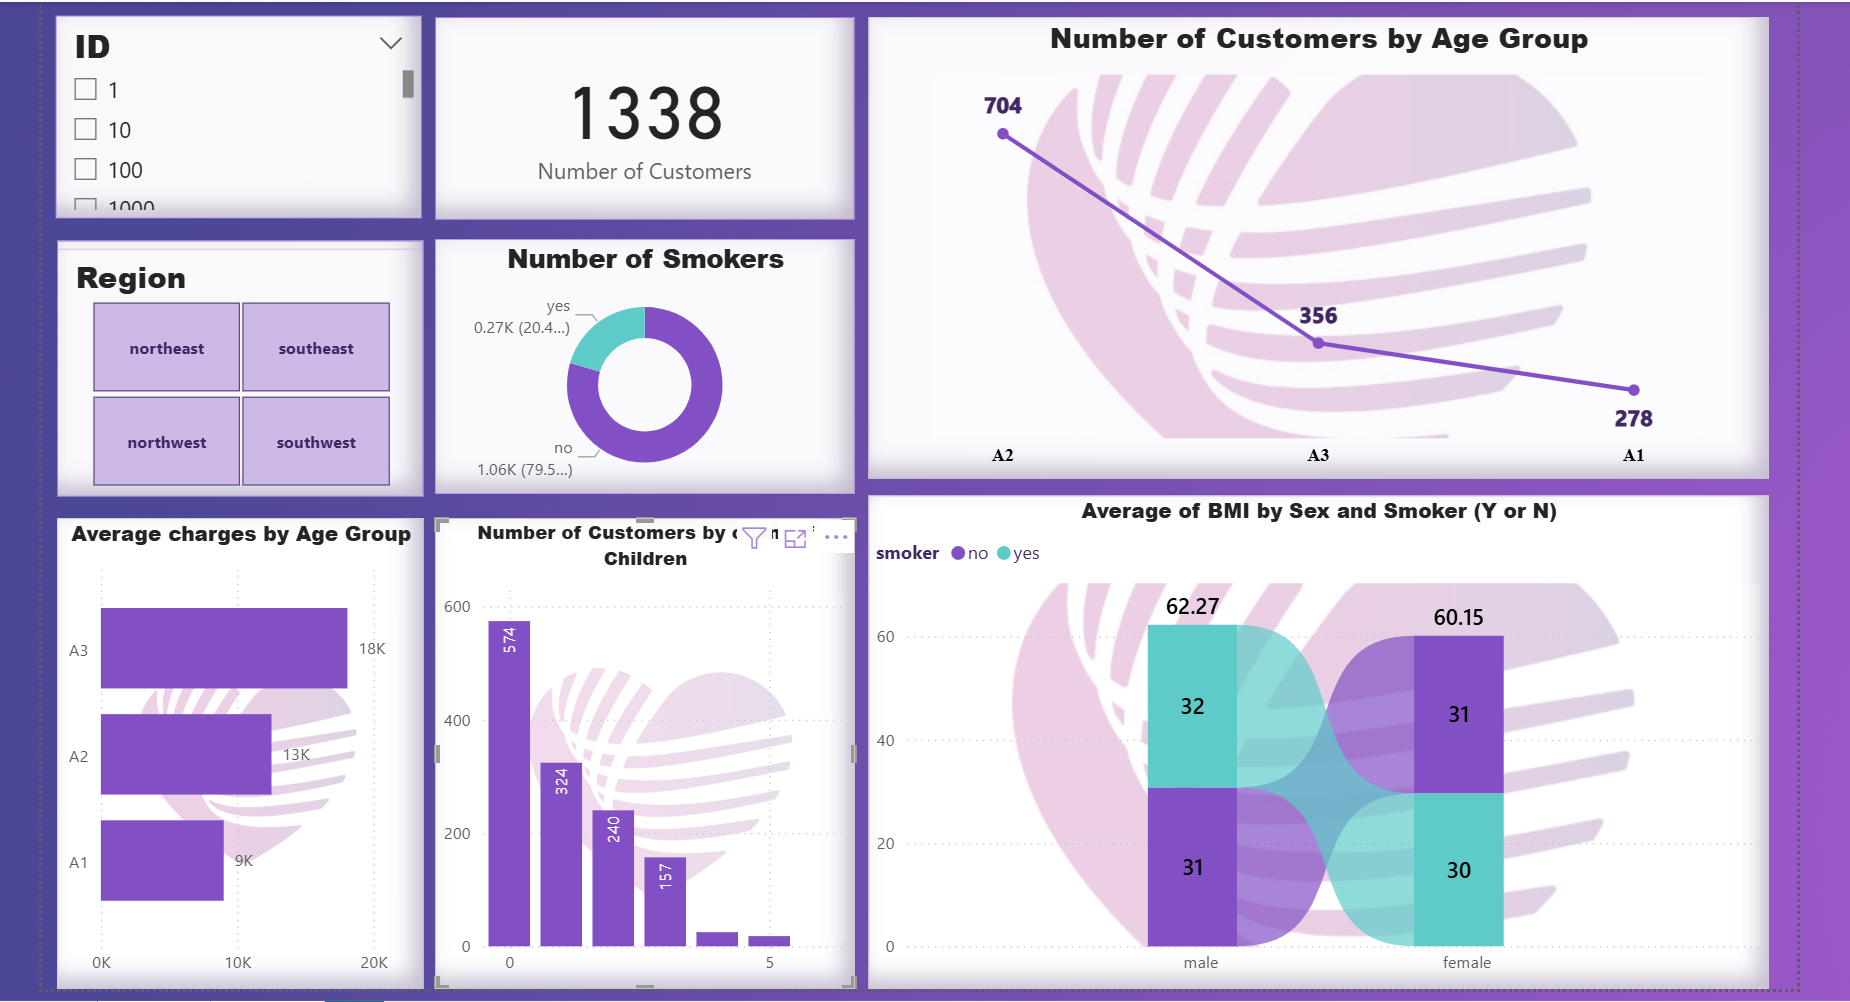

What the dashboard file says about the page in this screenshot:
{"tool":"powerbi","page":{"name":"Page 1","canvas":[1280,720],"ordinal":0},"visuals":[{"type":"slicer","fields":{"Values":["insurance.ID"]},"box":[10.1,10.1,267.1,147.9],"z":0},{"type":"card","fields":{"Values":["Count(insurance.ID)"]},"box":[287.2,10.5,305.9,147.7],"z":1000},{"type":"slicer","fields":{"Values":["insurance.region"]},"box":[10.5,173.5,267.3,186.4],"z":2000},{"type":"barChart","title":"Average charges by Age Group","fields":{"Category":["insurance.Age Group"],"Y":["Avg(insurance.charges)"]},"box":[10.5,376.3,267.3,343.4],"z":3000},{"type":"lineChart","title":"Number of Customers by Age Group","fields":{"Category":["insurance.Age Group"],"Y":["Count(insurance.ID)"]},"box":[602.5,10.5,656.4,336.4],"z":4000},{"type":"ribbonChart","title":"Average of BMI by Sex and Smoker (Y or N)","fields":{"Y":["Avg(insurance.bmi)"],"Category":["insurance.sex"],"Series":["insurance.smoker"]},"box":[602.5,359.9,656.4,359.9],"z":5000},{"type":"donutChart","title":"Number of Smokers","fields":{"Y":["CountNonNull(insurance.smoker)"],"Category":["insurance.smoker"]},"box":[287,173,306,186],"z":6000},{"type":"columnChart","title":"Number of Customers by count of Children","fields":{"Category":["insurance.children"],"Y":["CountNonNull(insurance.ID)"]},"box":[287.2,376.3,305.9,343.4],"z":7000}]}

Visuals, with their boxes in screenshot pixels (x1, y1, x2, y2):
slicer - insurance.ID: [x1=52, y1=9, x2=419, y2=212]
card - Count(insurance.ID): [x1=433, y1=10, x2=853, y2=212]
slicer - insurance.region: [x1=53, y1=233, x2=420, y2=489]
"Average charges by Age Group" barChart: [x1=53, y1=512, x2=420, y2=983]
"Number of Customers by Age Group" lineChart: [x1=865, y1=10, x2=1766, y2=471]
"Average of BMI by Sex and Smoker (Y or N)" ribbonChart: [x1=865, y1=489, x2=1766, y2=983]
"Number of Smokers" donutChart: [x1=432, y1=233, x2=852, y2=488]
"Number of Customers by count of Children" columnChart: [x1=433, y1=512, x2=853, y2=983]
